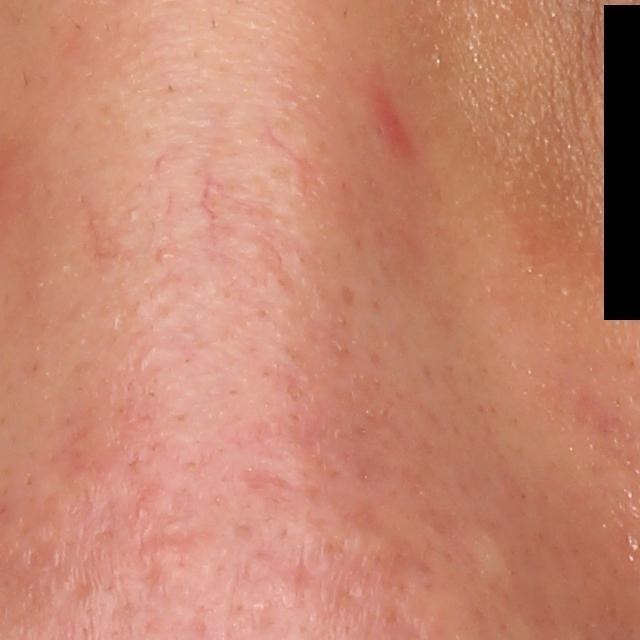hypertrophic_scar: (472, 531, 521, 592)
